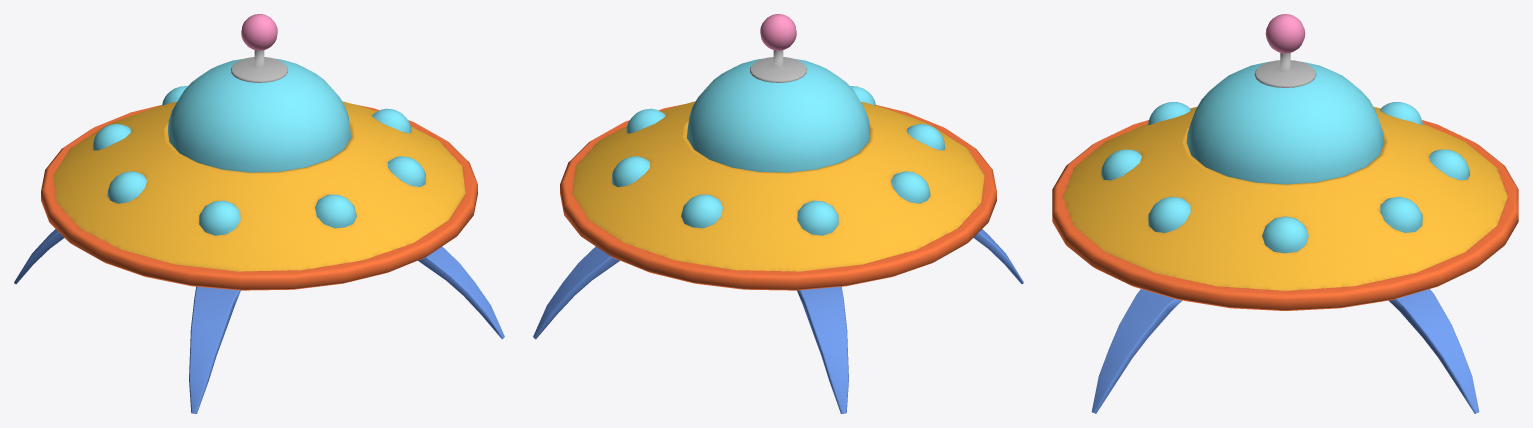
The model's file is ufo.fbx.
The picture shows the model from 3 angles, left to right: view 1: azimuth 30°, elevation 25°; view 2: azimuth 150°, elevation 25°; view 3: azimuth 270°, elevation 25°; orthographic projection. The views are drawn at different scales.
Visible parts, largest first — view 1: polySurface3, polySurface32, pCube5, pSphere11, polySurface31, polySurface34; view 2: polySurface3, polySurface32, pCube5, pSphere11, polySurface31, polySurface34; view 3: polySurface3, polySurface32, pCube5, pSphere11, polySurface31, polySurface34.
Part boxes in pixels (left/top/right/bottom): polySurface3: left=41, top=101, right=477, bottom=290; polySurface32: left=168, top=58, right=350, bottom=172; pCube5: left=14, top=229, right=504, bottom=413; pSphere11: left=93, top=86, right=425, bottom=235; polySurface31: left=231, top=50, right=287, bottom=82; polySurface34: left=241, top=14, right=277, bottom=50; polySurface3: left=560, top=101, right=996, bottom=290; polySurface32: left=687, top=58, right=869, bottom=172; pCube5: left=533, top=229, right=1023, bottom=413; pSphere11: left=612, top=86, right=944, bottom=235; polySurface31: left=750, top=50, right=806, bottom=82; polySurface34: left=760, top=14, right=796, bottom=50; polySurface3: left=1052, top=107, right=1518, bottom=310; polySurface32: left=1186, top=61, right=1384, bottom=184; pCube5: left=1091, top=289, right=1479, bottom=413; pSphere11: left=1101, top=102, right=1469, bottom=253; polySurface31: left=1254, top=53, right=1316, bottom=87; polySurface34: left=1265, top=14, right=1305, bottom=53.
Bounding box in the file's own units: 8.54 × 6.37 × 8.48.
